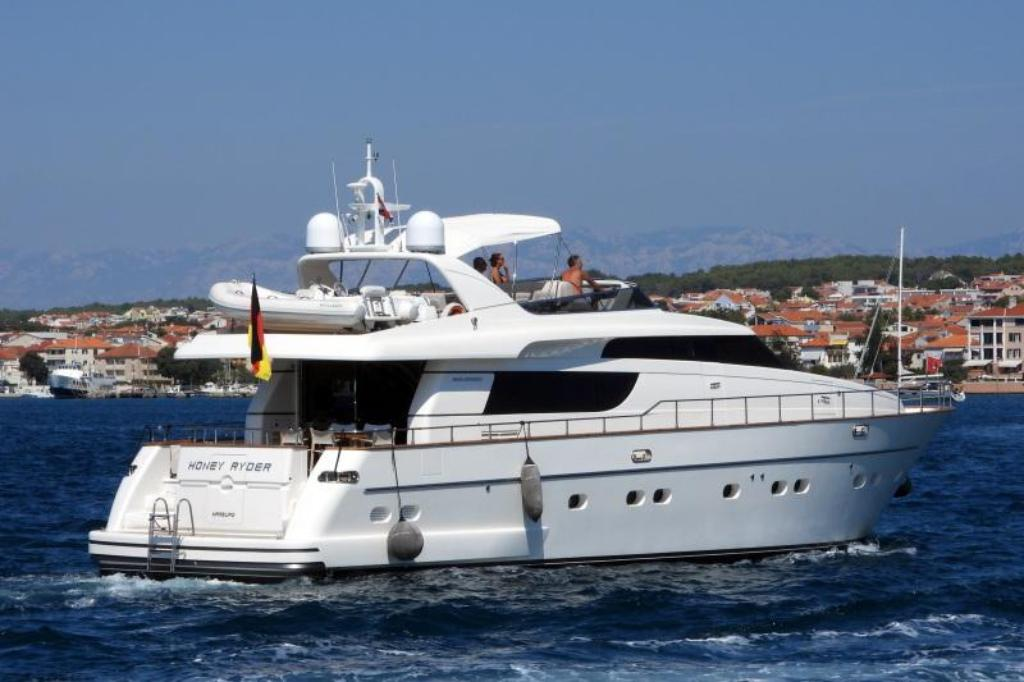PassengerShip: (76, 132, 960, 591)
